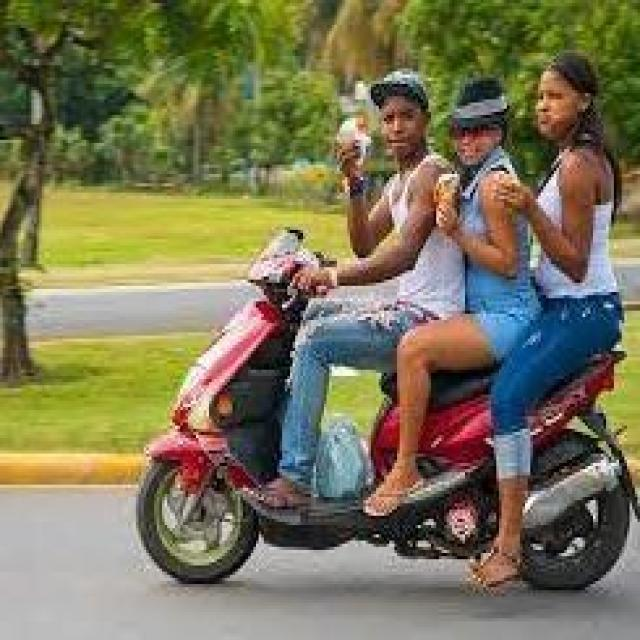triple_rider: (138, 49, 639, 589)
